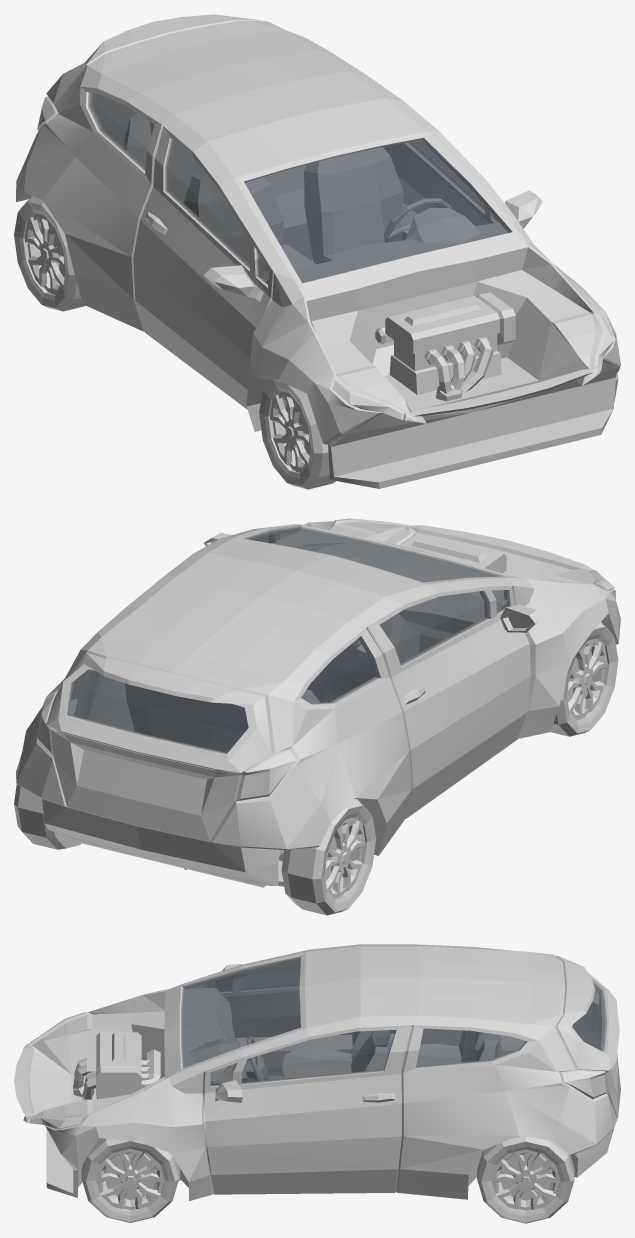
Rendered from Hatch_01_Base.glb.
The picture shows the model from 3 angles, top to bottom: view 1: azimuth 30°, elevation 25°; view 2: azimuth 150°, elevation 25°; view 3: azimuth 270°, elevation 25°; orthographic projection. The views are drawn at different scales.
Parts seen in each view (by area): view 1: SM_Veh_Hatch_01, SM_Veh_Hatch_01_Glass, SM_Veh_Hatch_01_Door_R, SM_Veh_Hatch_01_Seats_01_Front, SM_Veh_Hatch_01_Wheel_fr, SM_Veh_Hatch_01_Door_L, SM_Veh_Hatch_01_Wheel_rr, SM_Veh_Hatch_01_Seats_01_Rear, SM_Veh_Hatch_01_Boot, SM_Veh_Hatch_01_SteeringW; view 2: SM_Veh_Hatch_01, SM_Veh_Hatch_01_Door_R, SM_Veh_Hatch_01_Boot, SM_Veh_Hatch_01_Boot_Glass, SM_Veh_Hatch_01_Glass, SM_Veh_Hatch_01_Wheel_rr, SM_Veh_Hatch_01_Seats_01_Rear, SM_Veh_Hatch_01_Wheel_fr, SM_Veh_Hatch_01_Seats_01_Front, SM_Veh_Hatch_01_Wheel_rl; view 3: SM_Veh_Hatch_01, SM_Veh_Hatch_01_Door_L, SM_Veh_Hatch_01_Glass, SM_Veh_Hatch_01_Wheel_rl, SM_Veh_Hatch_01_Wheel_fl, SM_Veh_Hatch_01_Door_R, SM_Veh_Hatch_01_Boot, SM_Veh_Hatch_01_Seats_01_Front, SM_Veh_Hatch_01_Seats_01_Rear, SM_Veh_Hatch_01_Boot_Glass, SM_Veh_Hatch_01_SteeringW.
Part boxes in pixels (<box>): SM_Veh_Hatch_01: <box>16,20,620,488</box>; SM_Veh_Hatch_01_Glass: <box>88,92,510,282</box>; SM_Veh_Hatch_01_Door_R: <box>133,126,273,409</box>; SM_Veh_Hatch_01_Seats_01_Front: <box>184,147,403,279</box>; SM_Veh_Hatch_01_Wheel_fr: <box>259,379,335,489</box>; SM_Veh_Hatch_01_Door_L: <box>371,78,542,228</box>; SM_Veh_Hatch_01_Wheel_rr: <box>14,196,85,311</box>; SM_Veh_Hatch_01_Seats_01_Rear: <box>124,113,312,259</box>; SM_Veh_Hatch_01_Boot: <box>46,14,264,147</box>; SM_Veh_Hatch_01_SteeringW: <box>384,198,450,242</box>; SM_Veh_Hatch_01: <box>16,518,620,887</box>; SM_Veh_Hatch_01_Door_R: <box>366,586,542,818</box>; SM_Veh_Hatch_01_Boot: <box>46,653,272,842</box>; SM_Veh_Hatch_01_Boot_Glass: <box>67,669,248,753</box>; SM_Veh_Hatch_01_Glass: <box>248,527,504,703</box>; SM_Veh_Hatch_01_Wheel_rr: <box>281,798,376,915</box>; SM_Veh_Hatch_01_Seats_01_Rear: <box>125,683,319,752</box>; SM_Veh_Hatch_01_Wheel_fr: <box>550,622,618,736</box>; SM_Veh_Hatch_01_Seats_01_Front: <box>307,638,374,702</box>; SM_Veh_Hatch_01_Wheel_rl: <box>14,784,81,849</box>; SM_Veh_Hatch_01: <box>14,944,617,1200</box>; SM_Veh_Hatch_01_Door_L: <box>203,1025,411,1194</box>; SM_Veh_Hatch_01_Glass: <box>181,957,526,1068</box>; SM_Veh_Hatch_01_Wheel_rl: <box>477,1135,574,1223</box>; SM_Veh_Hatch_01_Wheel_fl: <box>81,1138,179,1222</box>; SM_Veh_Hatch_01_Door_R: <box>204,961,395,1070</box>; SM_Veh_Hatch_01_Boot: <box>555,955,620,1118</box>; SM_Veh_Hatch_01_Seats_01_Front: <box>282,1030,390,1078</box>; SM_Veh_Hatch_01_Seats_01_Rear: <box>416,1030,499,1065</box>; SM_Veh_Hatch_01_Boot_Glass: <box>572,982,606,1051</box>; SM_Veh_Hatch_01_SteeringW: <box>246,1036,269,1081</box>.
Size of the model in its own units: 2.28 by 1.53 by 4.46.
